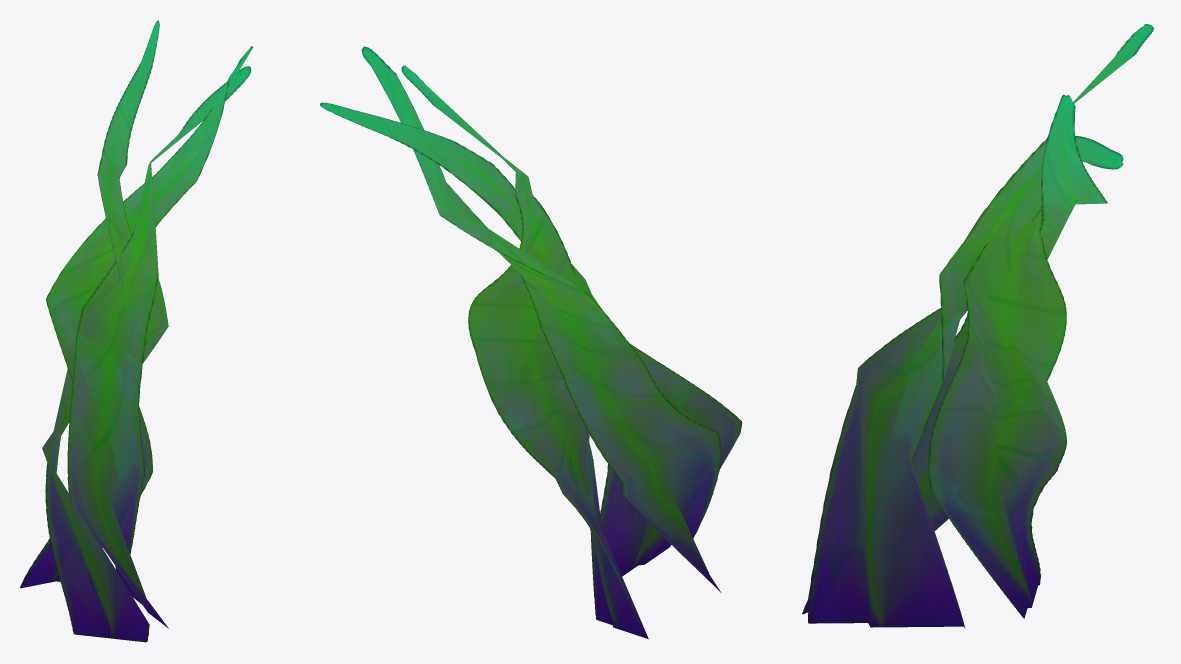
Rendered from S_Algue.fbx.
The picture shows the model from 3 angles, left to right: view 1: azimuth 30°, elevation 25°; view 2: azimuth 150°, elevation 25°; view 3: azimuth 270°, elevation 25°; orthographic projection. The views are drawn at different scales.
Parts seen in each view (by area): view 1: S_foliage_algue; view 2: S_foliage_algue; view 3: S_foliage_algue.
Boxes of the visible parts, bbox=[...] form: S_foliage_algue: bbox=[20, 20, 252, 642]; S_foliage_algue: bbox=[320, 46, 741, 639]; S_foliage_algue: bbox=[802, 24, 1153, 628].
Size of the model in its own units: 28.8 by 23.2 by 46.64.
